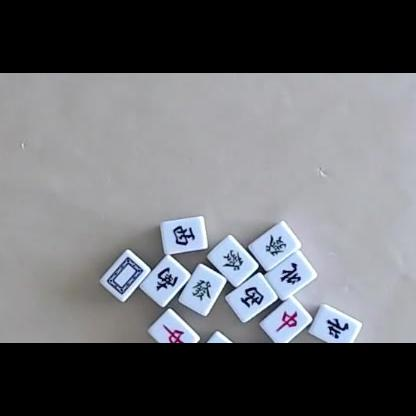2z: (156, 267, 178, 291)
3z: (240, 287, 264, 308), (173, 226, 195, 246)
4z: (326, 317, 350, 339), (280, 262, 302, 285)
5z: (106, 257, 143, 296)
6z: (264, 233, 287, 256), (222, 248, 243, 272), (192, 278, 212, 302)
7z: (276, 310, 298, 332), (162, 323, 186, 343)
